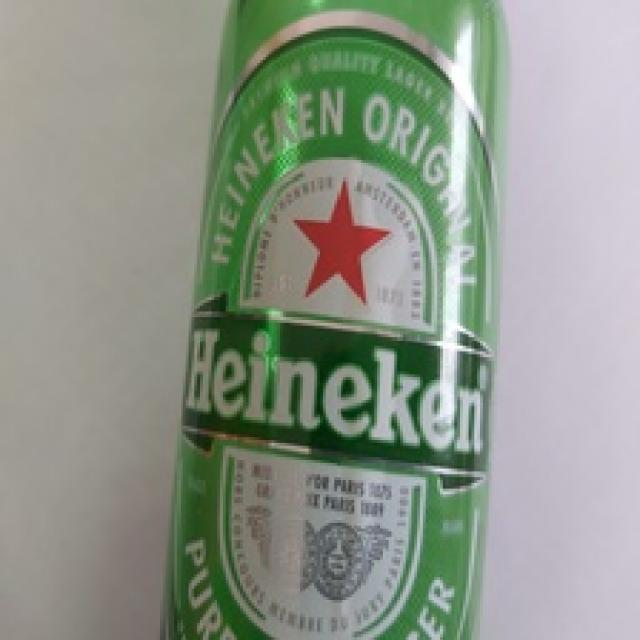garbage: (153, 0, 546, 640)
